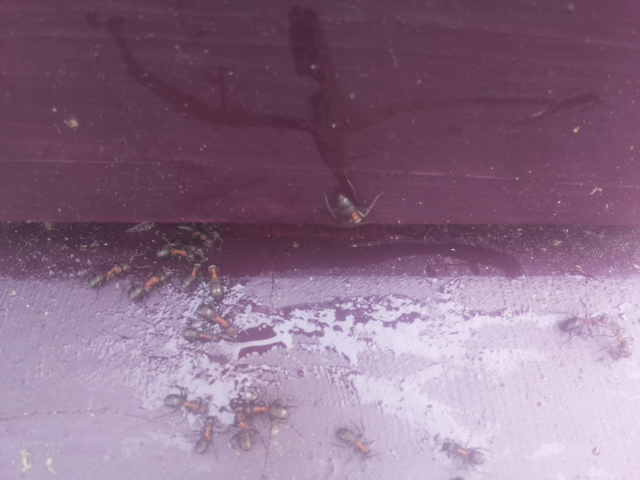ant: (119, 265, 181, 307), (189, 297, 244, 343), (331, 417, 379, 467), (231, 391, 295, 425), (80, 257, 137, 295), (328, 183, 370, 233), (155, 385, 213, 420), (438, 433, 488, 467), (553, 308, 610, 337), (228, 406, 257, 455), (193, 412, 219, 459), (206, 262, 225, 303), (150, 241, 193, 259), (613, 327, 632, 360), (182, 262, 200, 290)
